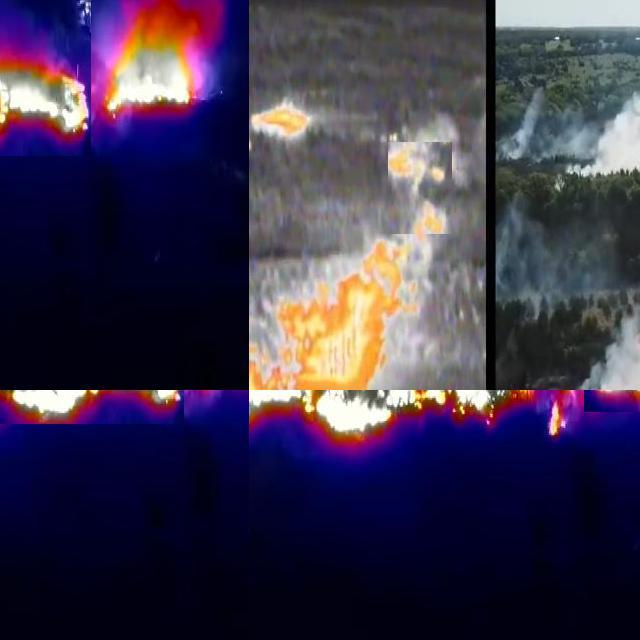fire: (278, 241, 417, 391), (250, 391, 581, 450), (1, 1, 92, 157), (103, 1, 204, 118), (389, 143, 453, 235), (250, 102, 316, 154)
